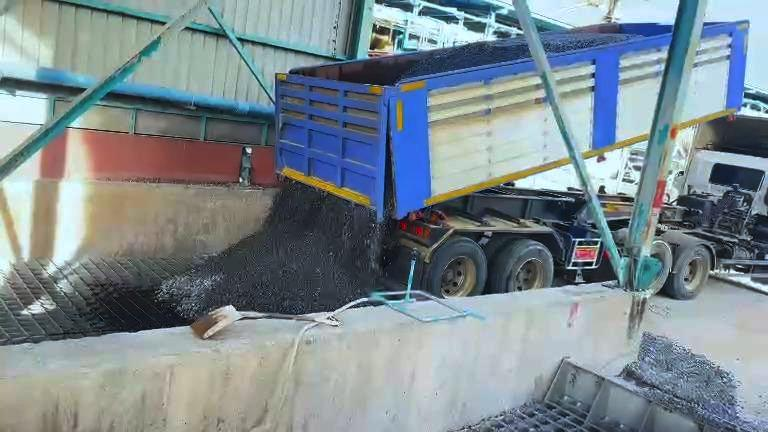gravel: (159, 183, 382, 318), (622, 334, 767, 430), (398, 36, 530, 80), (541, 33, 639, 54)
